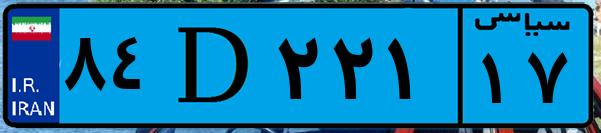1: (385, 28, 445, 110), (475, 38, 525, 113)
2: (270, 28, 330, 110), (330, 28, 385, 110)
4: (110, 28, 158, 98)
7: (525, 38, 570, 115)
8: (57, 26, 110, 100)
D: (158, 12, 270, 120)
